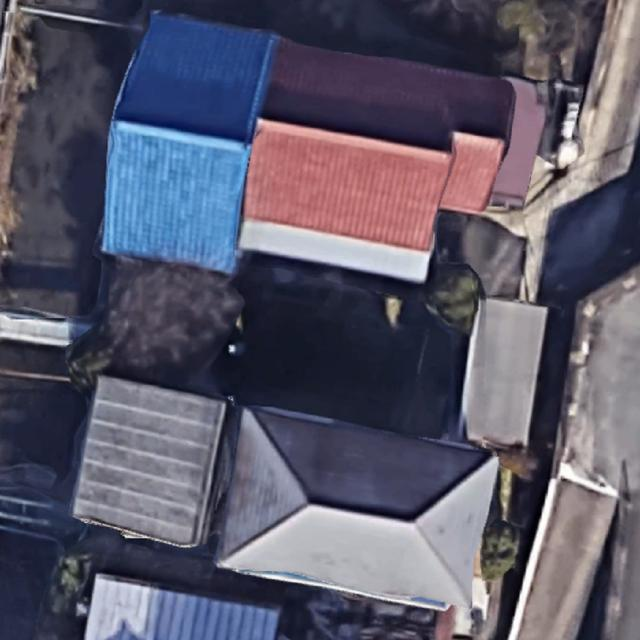Batiment: (239, 39, 542, 281), (216, 407, 498, 608), (102, 13, 279, 274), (72, 376, 226, 546), (462, 298, 548, 448), (85, 574, 279, 640)
